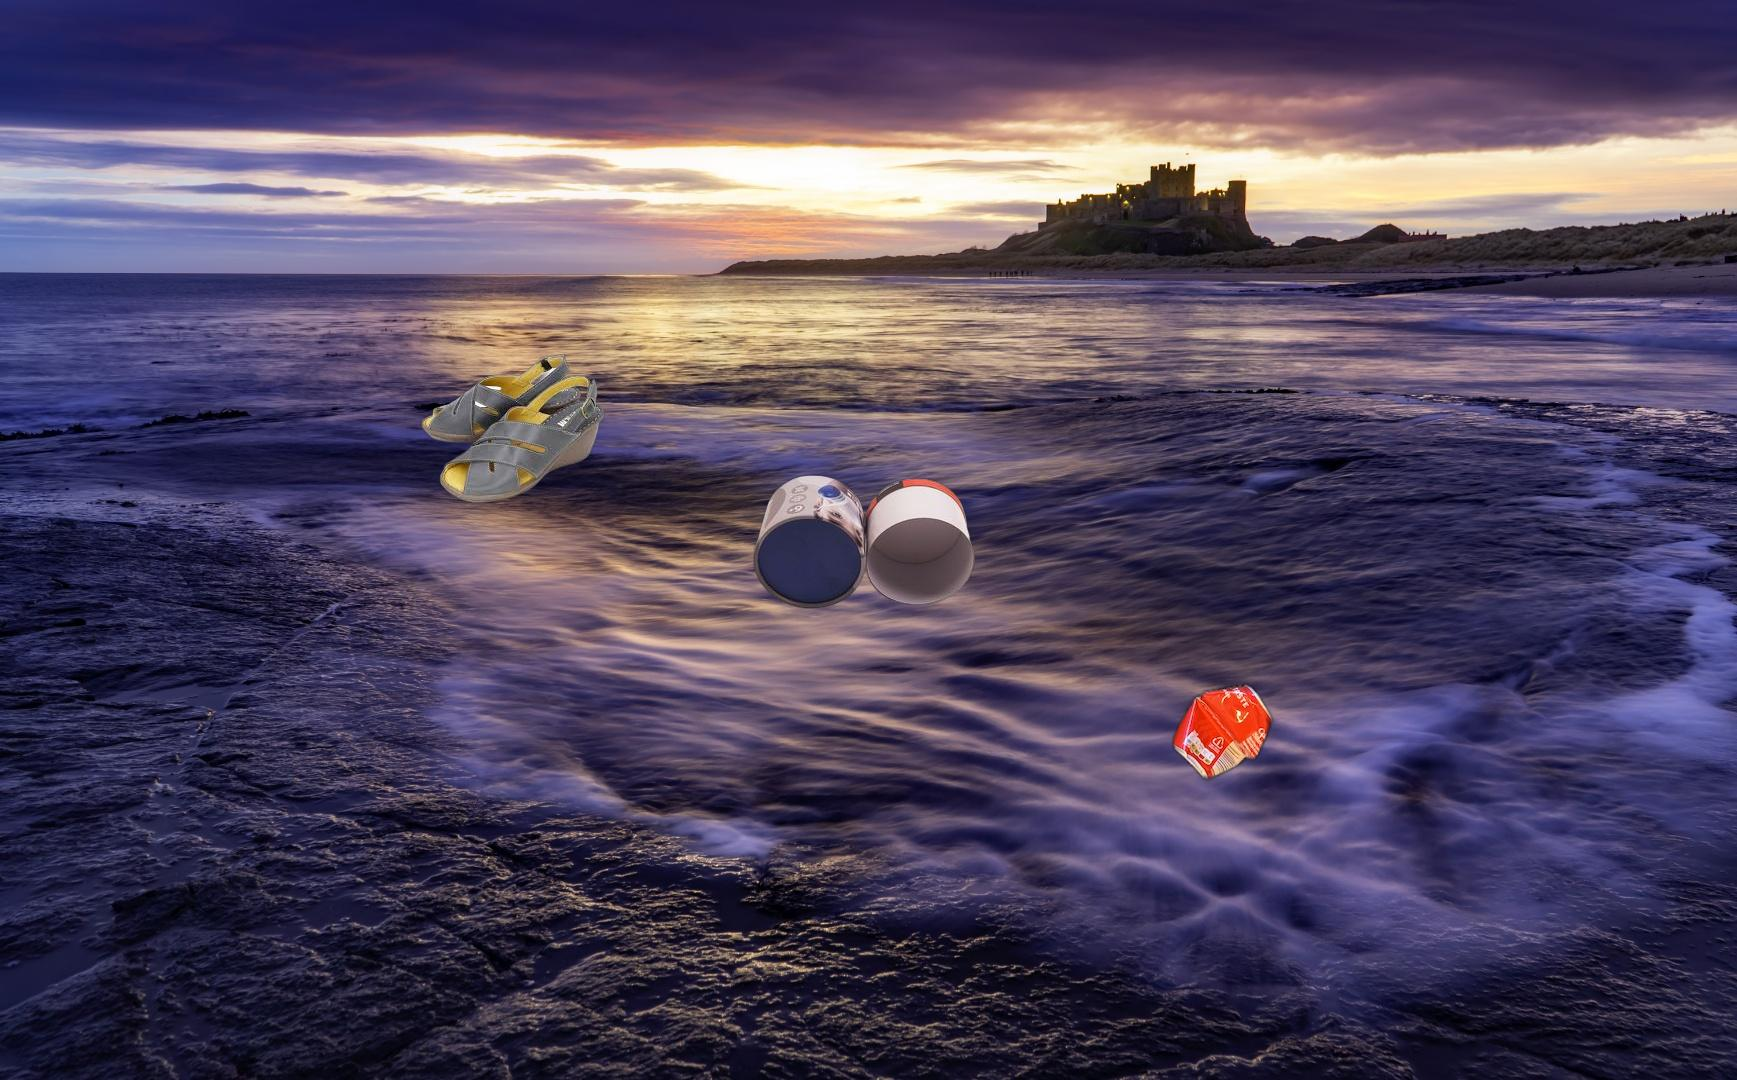metal-cans: (1139, 208, 1651, 829)
shoes: (419, 351, 607, 506)
trashbox-cardboard: (752, 472, 978, 612)
